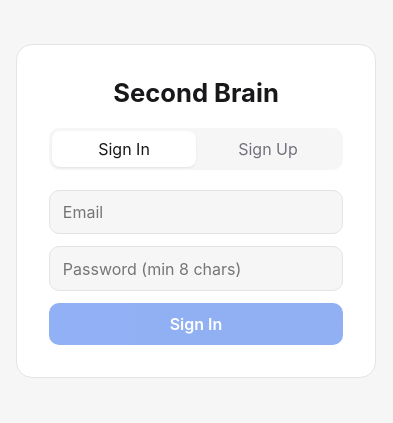
Test case: LoginPage › switches to sign-up mode and shows the display-name field
Expected: the field with placeholder "Display name" is not shown
Click the button "Sign Up". click: (268, 149)
box: left=196, top=131, right=340, bottom=167
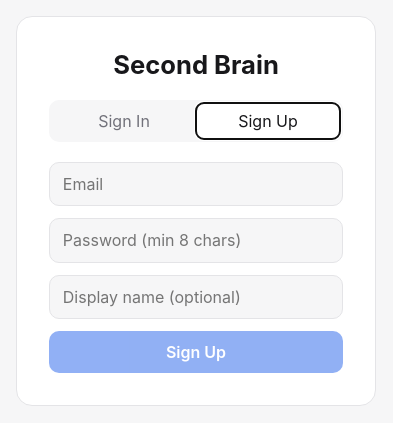
Expected: the field with placeholder "Display name (optional)" is shown, left=49, top=274, right=343, bottom=319
